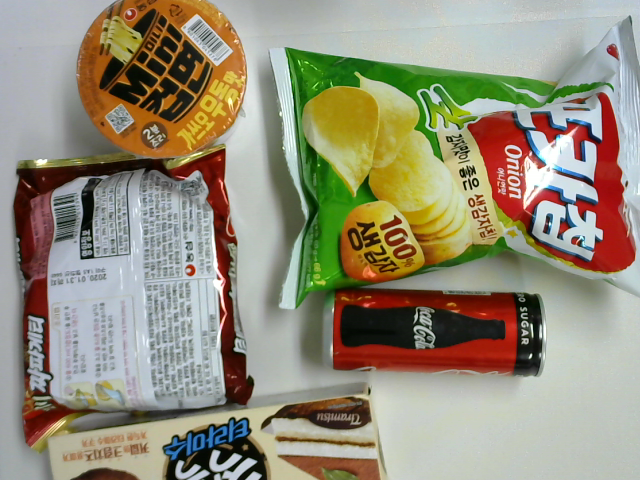Chicchok_Tiramisu: (46, 381, 390, 480)
Coca_Cola_Zero_Can_250ml: (322, 284, 547, 382)
Pocachip_Onion: (266, 15, 640, 311)
Sichuan_Chapaghetti: (12, 140, 254, 449)
Udongmini: (73, 1, 249, 157)
